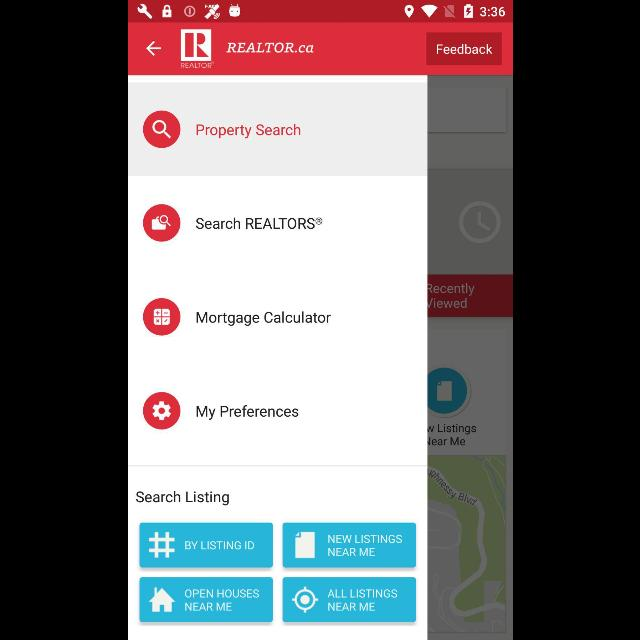icon: (142, 392, 180, 430), (142, 204, 180, 242), (142, 110, 180, 148), (145, 42, 161, 56)
image: (142, 298, 180, 336), (180, 30, 214, 68)
panel: (128, 76, 426, 640)
text: (196, 312, 330, 326), (196, 123, 300, 139), (195, 404, 298, 420), (195, 218, 322, 230), (136, 490, 228, 506), (225, 42, 313, 54)
textbutton: (282, 522, 416, 568), (138, 522, 272, 568), (282, 578, 416, 622), (138, 578, 272, 622), (426, 33, 500, 66)
toolbar: (128, 23, 512, 75)
uppertaskbar: (128, 1, 512, 23)
